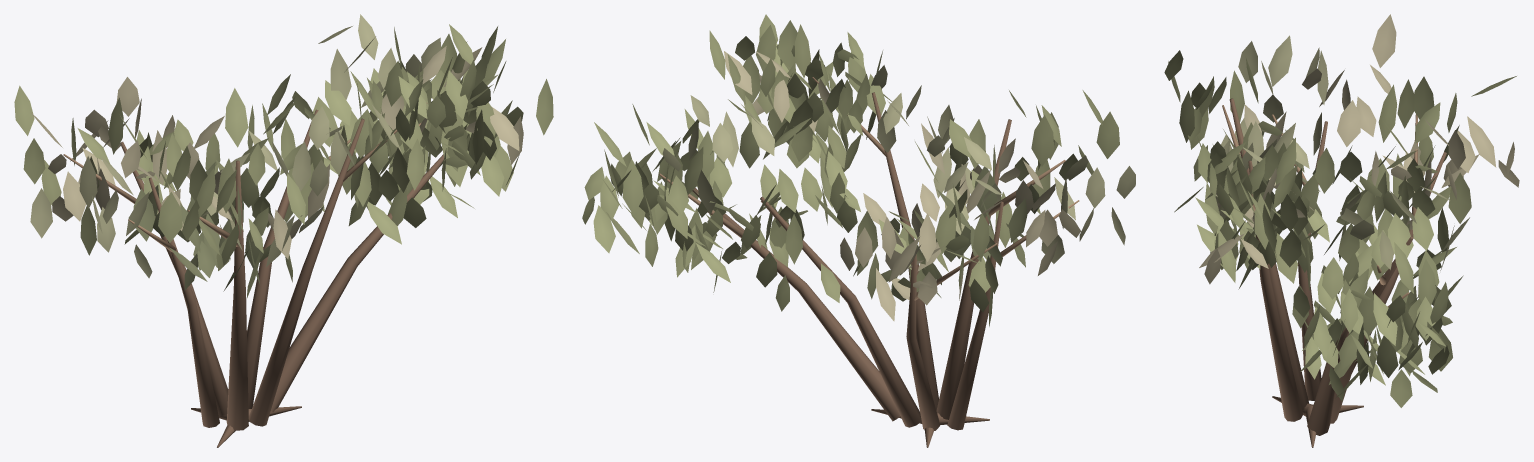
Rendered from bush_3d_05.glb.
The picture shows the model from 3 angles, left to right: view 1: azimuth 30°, elevation 25°; view 2: azimuth 150°, elevation 25°; view 3: azimuth 270°, elevation 25°; orthographic projection. The views are drawn at different scales.
Parts seen in each view (by area): view 1: bush_3d_05_foliage, bush_3d_05_wood; view 2: bush_3d_05_foliage, bush_3d_05_wood; view 3: bush_3d_05_foliage, bush_3d_05_wood.
Boxes of the visible parts, box(x1,y1,x2,y2) form: bush_3d_05_foliage: box(14, 14, 553, 298); bush_3d_05_wood: box(63, 102, 443, 447); bush_3d_05_foliage: box(582, 14, 1135, 326); bush_3d_05_wood: box(659, 77, 1079, 447); bush_3d_05_foliage: box(1164, 14, 1519, 407); bush_3d_05_wood: box(1222, 98, 1446, 447).
Size of the model in its own units: 2.54 by 1.64 by 1.5.
